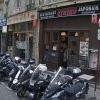Motorcycle: (11, 61, 94, 100)
